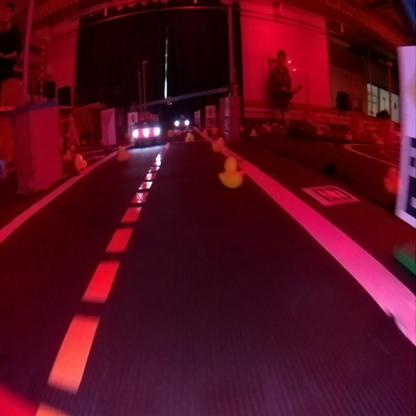Duckie: (219, 156, 243, 186), (74, 154, 86, 168), (212, 138, 224, 152), (116, 146, 126, 158), (185, 131, 193, 138)
Duckiebot: (132, 116, 162, 146), (174, 118, 190, 128)
QR code: (303, 186, 359, 206)
